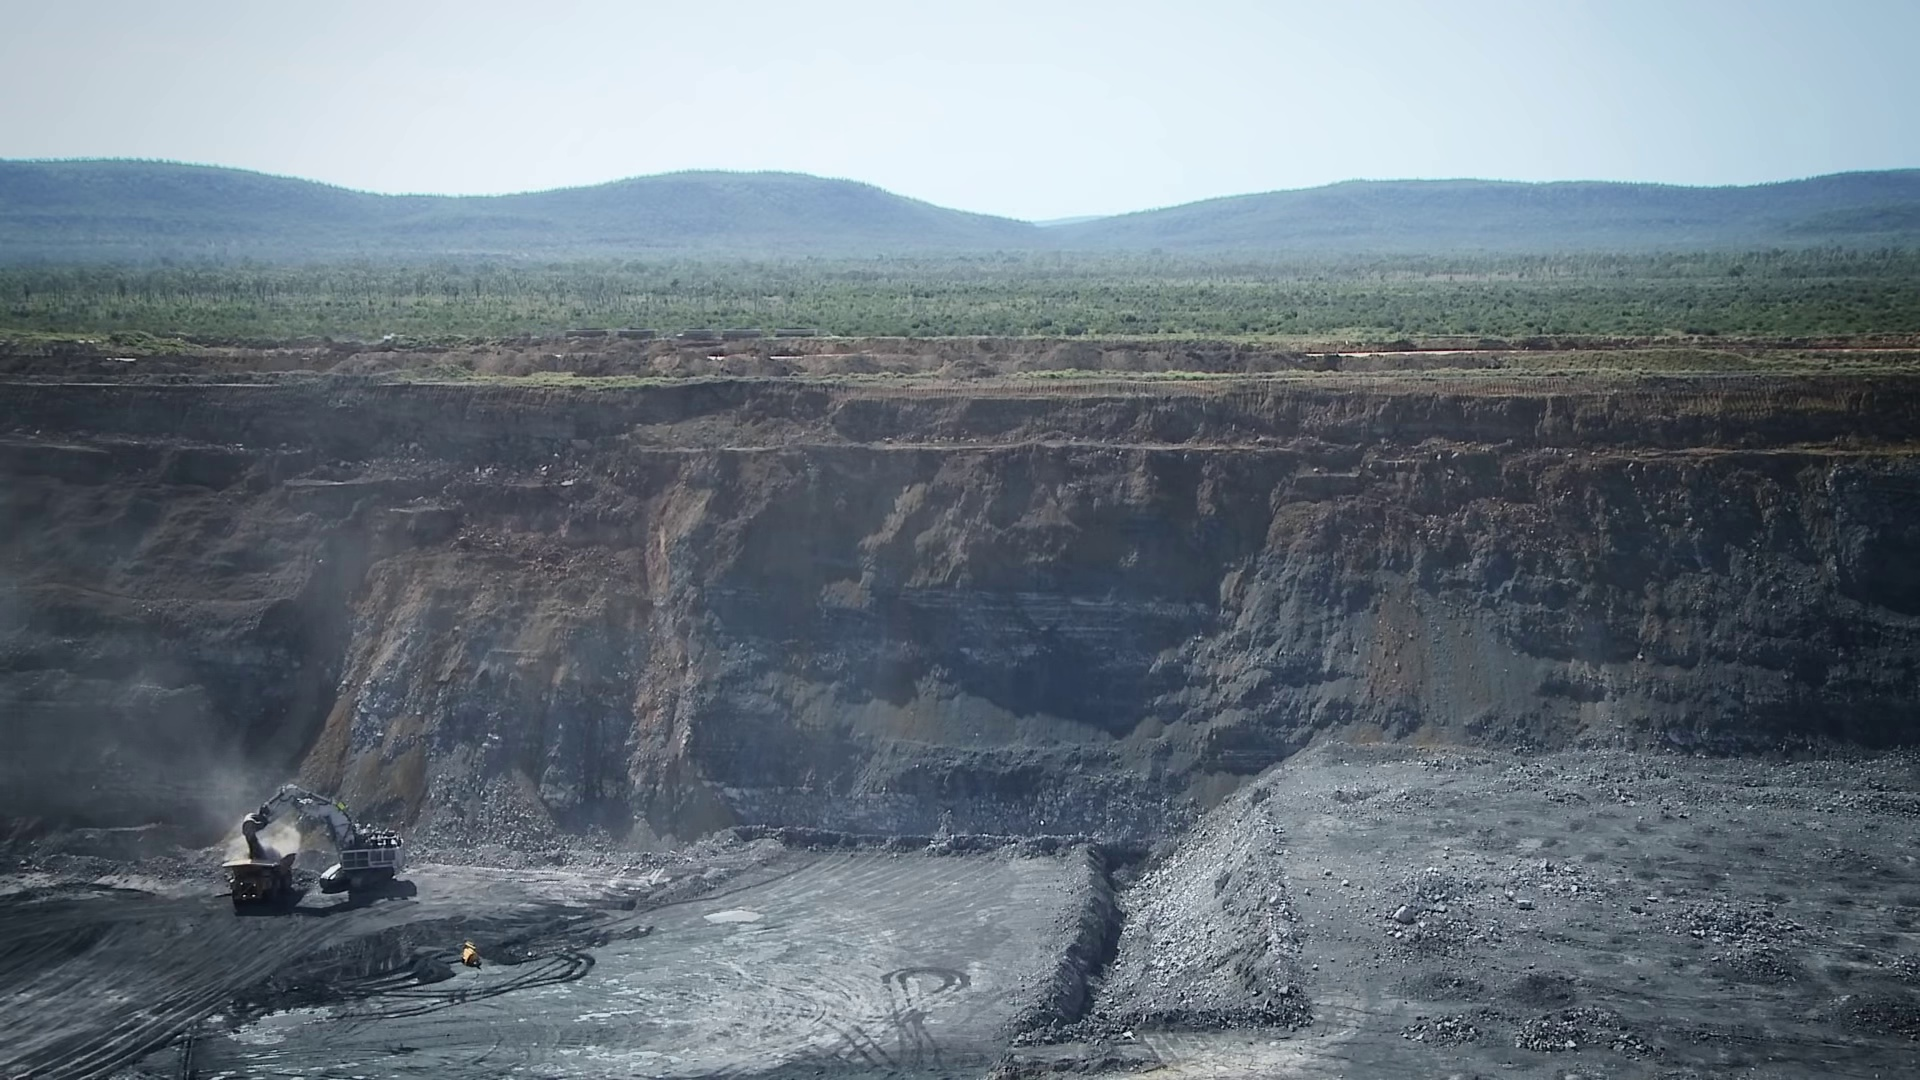dumper: (222, 823, 293, 903)
excavator: (241, 773, 414, 895)
